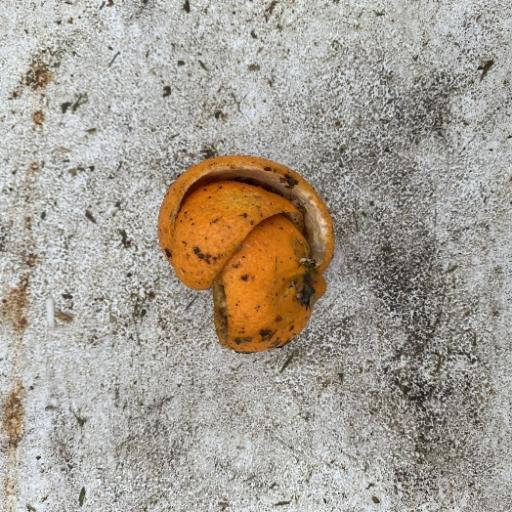Waste: (156, 153, 336, 354), (210, 211, 327, 354)
